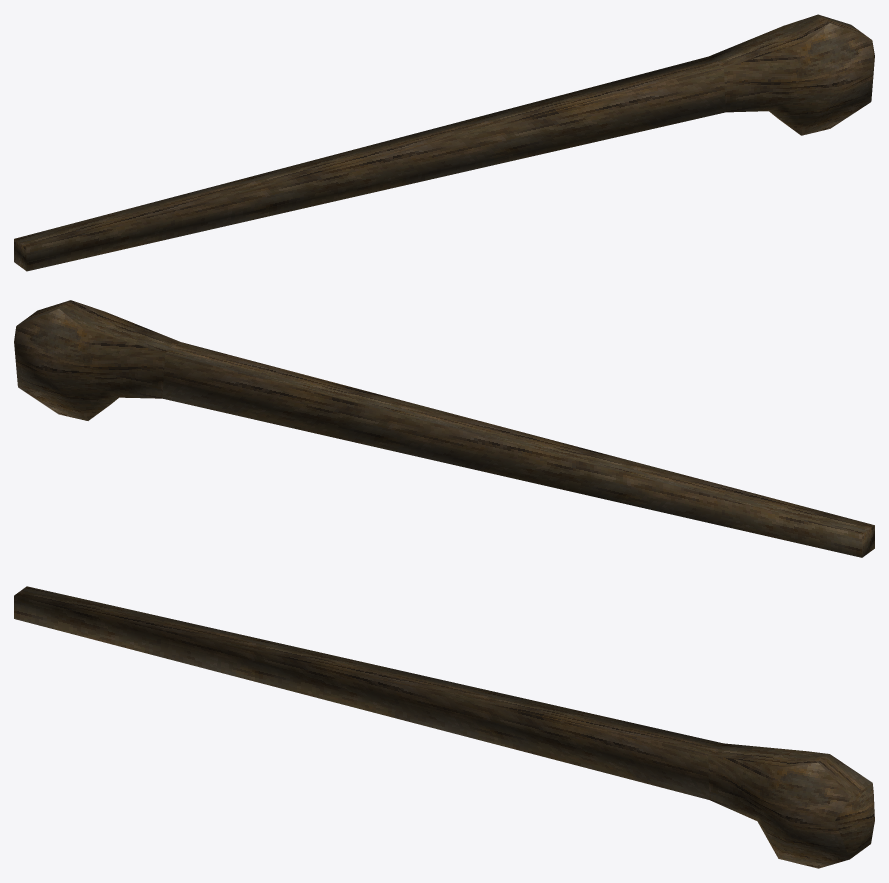
3 renders of one model, top to bottom at view 1: azimuth 30°, elevation 25°; view 2: azimuth 150°, elevation 25°; view 3: azimuth 330°, elevation 25°, orthographic.
Parts seen in each view (by area): view 1: it126; view 2: it126; view 3: it126.
Boxes of the visible parts, x1,y1,x2,y2 form: it126: (14,14,874,271); it126: (14,300,874,557); it126: (14,586,874,868).
Size of the model in its own units: 5.83 by 0.6904 by 0.585.
1 material, 1 textured.
